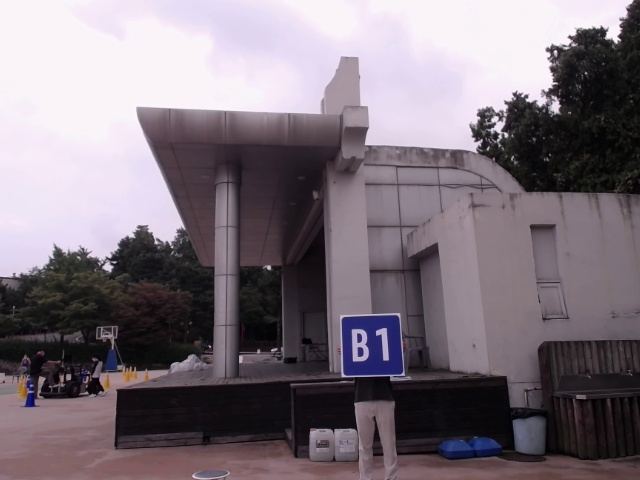delivery_b1: (340, 314, 405, 377)
